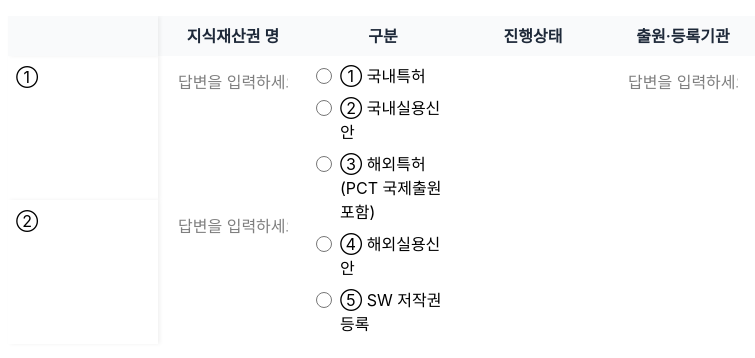
병합 앵커 컨트롤러 게이팅 — GQ1-2 재현 › ② 선택 시 진행상태 표시, ⑤ 선택 시 진행상태 숨김
Expected: the field labelled "① 출원 (미공개)" is not shown
Note: ② 국내실용신안 선택 → 진행상태 나타남
Click the radio button labelled "② 국내실용신안": (324, 108) 316,100 -> 332,116
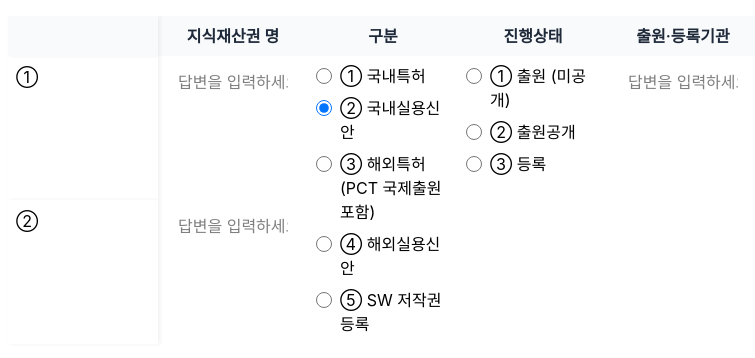
Expected: the radio button labelled "① 출원 (미공개)" is shown, 466,68 -> 482,84
Note: ⑤ SW 저작권 등록 선택 → 진행상태 다시 숨김
Click the radio button labelled "⑤ SW 저작권 등록": (324, 300) 316,292 -> 332,308
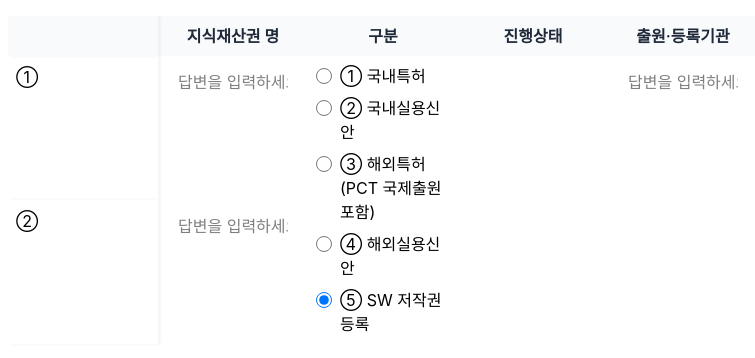
Expected: the label labelled "① 출원 (미공개)" is gone
